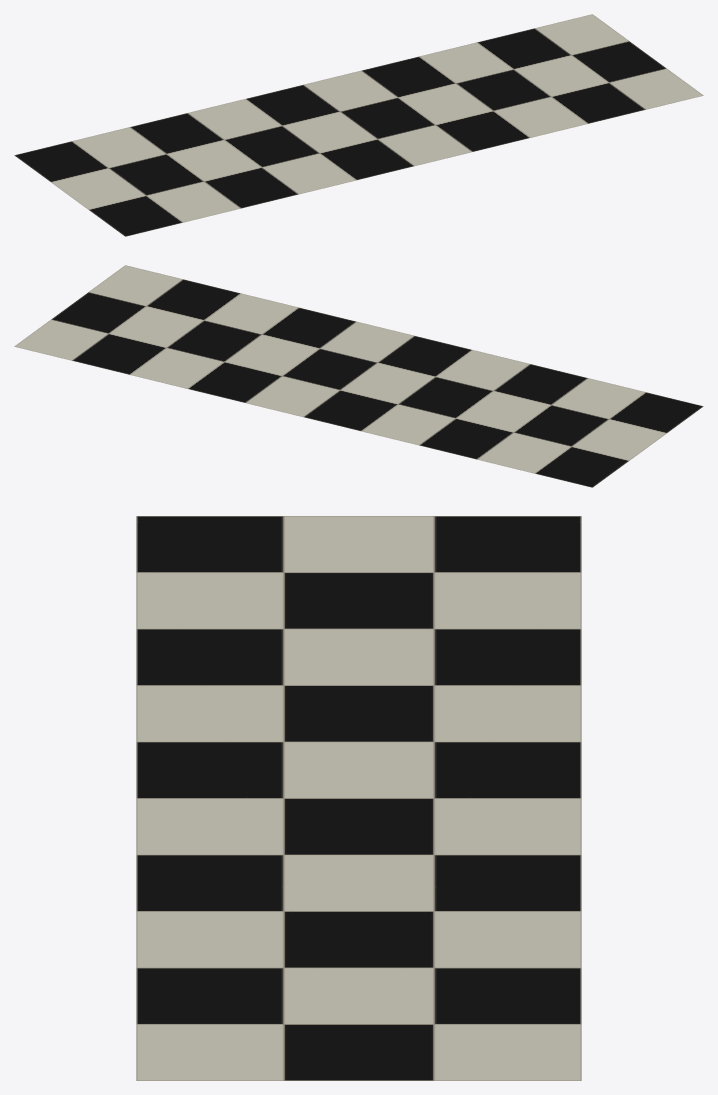
File: Floor_1m.fbx
3 views of the same model, one above another, from view 1: azimuth 30°, elevation 25°; view 2: azimuth 150°, elevation 25°; view 3: azimuth 270°, elevation 25° (orthographic). The views are drawn at different scales.
Parts seen in each view (by area): view 1: Floor_1m; view 2: Floor_1m; view 3: Floor_1m.
Part boxes in pixels (left/top/right/bottom): Floor_1m: left=14, top=14, right=703, bottom=236; Floor_1m: left=14, top=265, right=703, bottom=487; Floor_1m: left=136, top=516, right=581, bottom=1080.
Size of the model in its own units: 300 by 4.37e-06 by 100.
